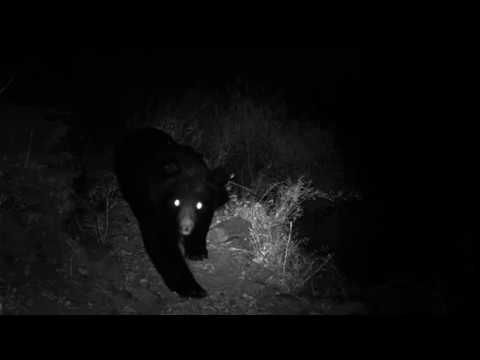bear: (100, 98, 231, 304)
